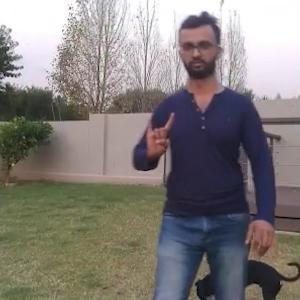takeoff-hand: (137, 105, 178, 159)
